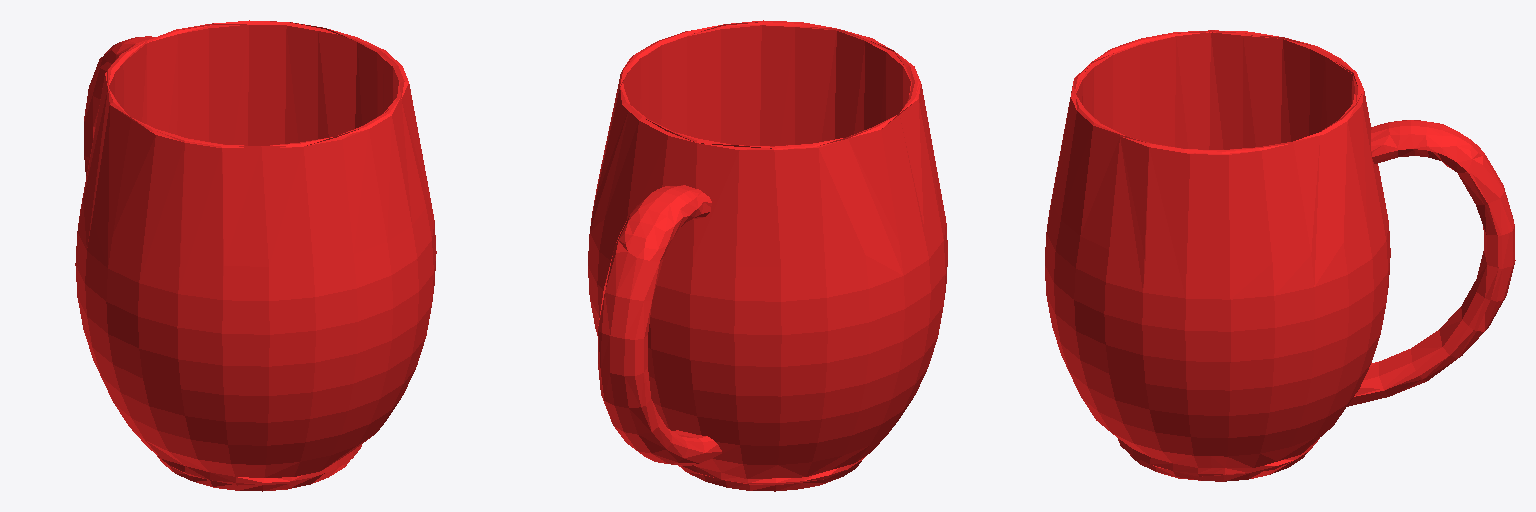
URDF robot description (mug):
<?xml version="0.0" ?>
<robot name="mug">
    <link concave="yes" name="base_link">
        <contact>
            <lateral_friction value="0.8"/>
            <!--rolling_friction value="0.3"/-->
            <!--spinning_friction value="0.3"/-->
        </contact>
        <inertial>
            <origin rpy="0 0 0" xyz="0. 0. 0."/>
            <mass value="1"/>
            <inertia ixx="1" ixy="0" ixz="0" iyy="1" iyz="0" izz="1"/>
        </inertial>
        <visual>
            <origin rpy="0 0 0" xyz="0. 0. 0."/>
            <geometry>
                <mesh filename="mug_simplified.stl" scale="1 1 1 "/>
            </geometry>
      <material name="mug">
        <color rgba="1 0.2 0.2 1"/>
        <specular rgb="1 1 1"/>
      </material>
        </visual>
        <collision concave="yes">
            <origin rpy="0 0 0" xyz="0. 0. 0."/>
            <geometry>
                <mesh filename="mug_simplified.stl" scale="1 1 1 "/>
            </geometry>
        </collision>
    </link>
</robot>

--- What the picture shows (computed from the rendered views, not written in the file) ---
Views: 3 orthographic renders of the robot side by side, from view 1: azimuth 30°, elevation 25°; view 2: azimuth 150°, elevation 25°; view 3: azimuth 270°, elevation 25°.
Model mug with 1 links and 0 joints (none), rooted at base_link, posed every joint at zero.
Visible links, largest first — view 1: base_link; view 2: base_link; view 3: base_link.
Boxes of the visible links, box(x1,y1,x2,y2) form: base_link: box(75, 20, 436, 491); base_link: box(588, 20, 947, 491); base_link: box(1045, 30, 1515, 481).
Bounding box of the posed robot: 0.1065 × 0.1448 × 0.12 m (x, y, z).
1 mesh visuals loaded from 1 distinct referenced files (1 binary STL).